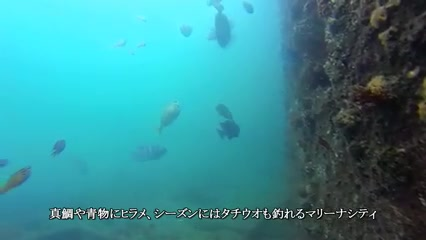smallfish: (214, 117, 244, 141)
